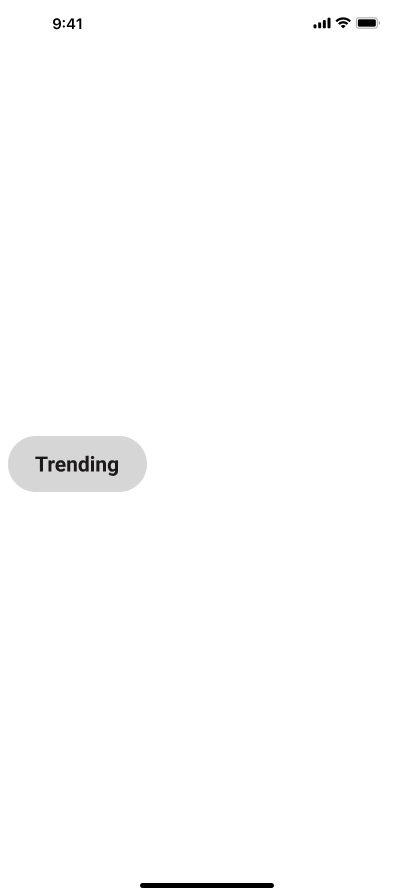Buttons: (8, 436, 155, 492)
Home Indicator: (0, 862, 414, 896)
Status Bar: (0, 0, 414, 44)
